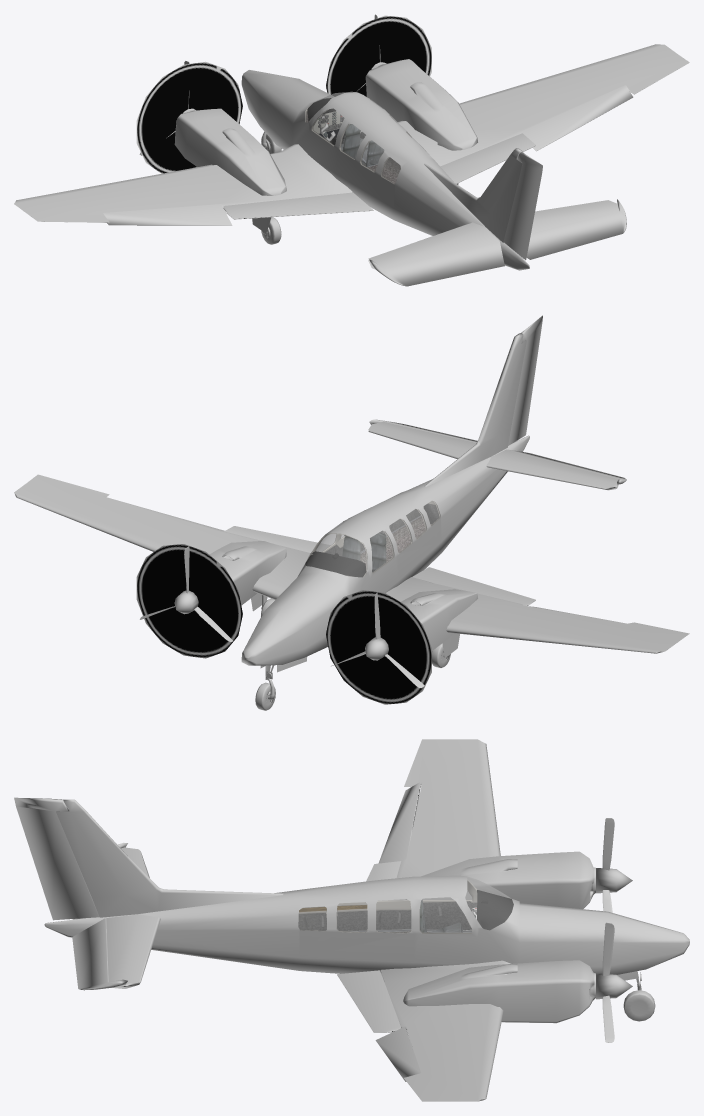
The model's file is F1_Boron58.fbx.
3 renders of one model, top to bottom at view 1: azimuth 30°, elevation 25°; view 2: azimuth 150°, elevation 25°; view 3: azimuth 270°, elevation 25°, orthographic. The views are drawn at different scales.
Visible parts, largest first — view 1: Boron58_Body, Left_Prop_Circle, Right_Prop_Circle, Left_BackWing, Right_BackWing, Left_Wing1, Back_Wing, Right_Wing2, Left_Wing2, Right_Wing1; view 2: Boron58_Body, Right_Prop_Circle, Left_Prop_Circle, Back_Wing, Left_Wing1, Right_Propeller, Left_Propeller, Right_Wing1; view 3: Boron58_Body, Back_Wing, Right_Wing1, Right_BackWing, Right_Propeller, Left_Wing2, Left_Propeller, Right_Wing2, Front_Tyre.
Boxes of the visible parts, <box> form: Boron58_Body: <box>14,44,689,270</box>; Left_Prop_Circle: <box>136,61,242,173</box>; Right_Prop_Circle: <box>326,15,431,96</box>; Left_BackWing: <box>369,241,504,286</box>; Right_BackWing: <box>526,199,626,259</box>; Left_Wing1: <box>223,192,373,219</box>; Back_Wing: <box>503,152,542,260</box>; Right_Wing2: <box>522,85,633,151</box>; Left_Wing2: <box>103,204,232,225</box>; Right_Wing1: <box>440,133,535,183</box>; Boron58_Body: <box>14,333,689,665</box>; Right_Prop_Circle: <box>136,544,242,658</box>; Left_Prop_Circle: <box>326,590,431,704</box>; Back_Wing: <box>508,315,542,445</box>; Left_Wing1: <box>412,567,535,605</box>; Right_Propeller: <box>140,546,232,641</box>; Left_Propeller: <box>331,592,424,688</box>; Right_Wing1: <box>224,526,330,552</box>; Boron58_Body: <box>44,739,689,1101</box>; Back_Wing: <box>14,797,99,920</box>; Right_Wing1: <box>337,970,400,1032</box>; Right_BackWing: <box>72,918,127,990</box>; Right_Propeller: <box>596,922,632,1042</box>; Left_Wing2: <box>378,782,420,863</box>; Left_Propeller: <box>596,818,632,912</box>; Right_Wing2: <box>375,1026,420,1081</box>; Front_Tyre: <box>623,990,655,1021</box>.
Size of the model in its own units: 11.18 by 3.18 by 8.81.
